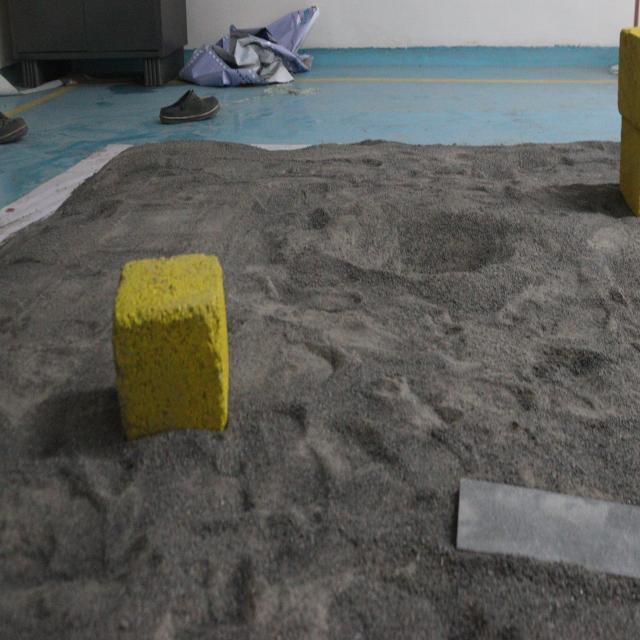box: (115, 256, 234, 436)
crater: (314, 186, 524, 288)
